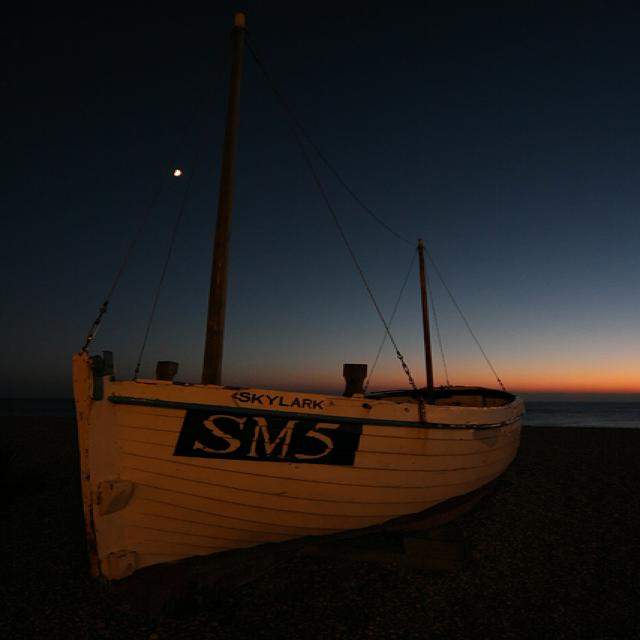Boat: (60, 15, 528, 606)
